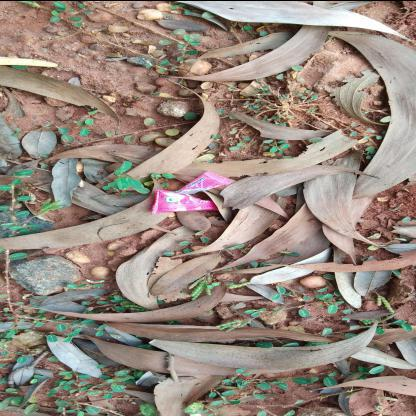plastik: (151, 171, 233, 216)
